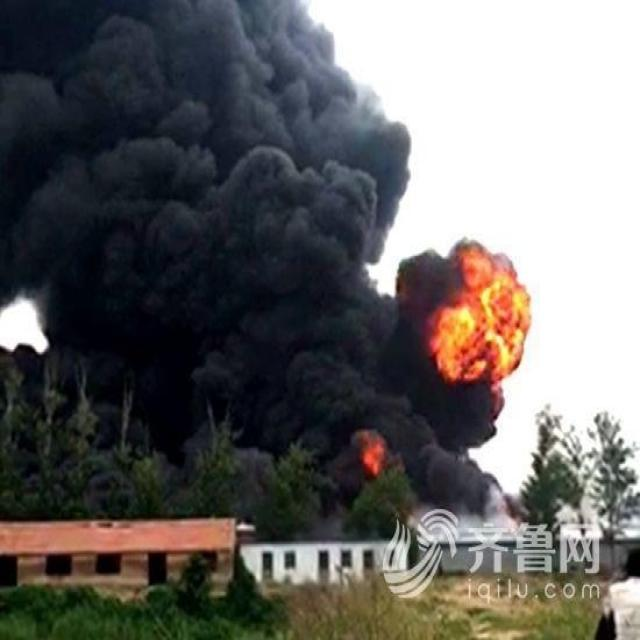Fire: (430, 247, 530, 383), (360, 442, 386, 476)
Smoke: (1, 1, 505, 521)
